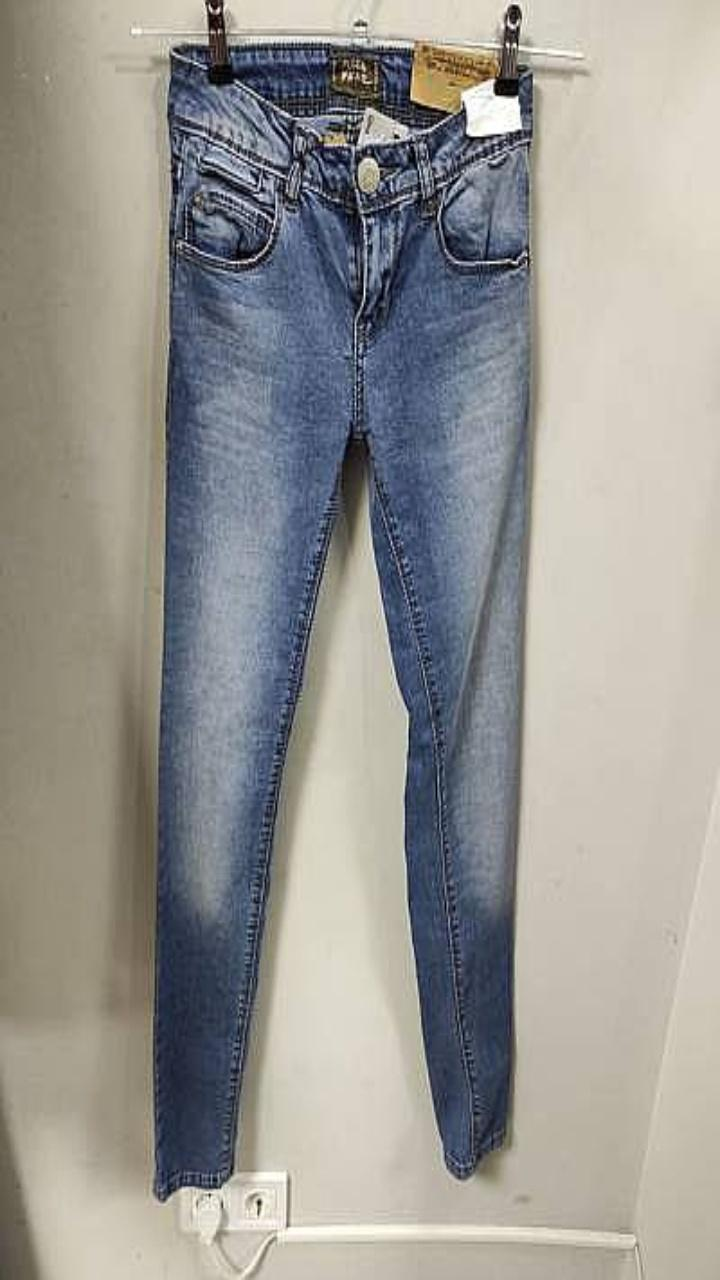Jeans: (153, 41, 531, 1200)
